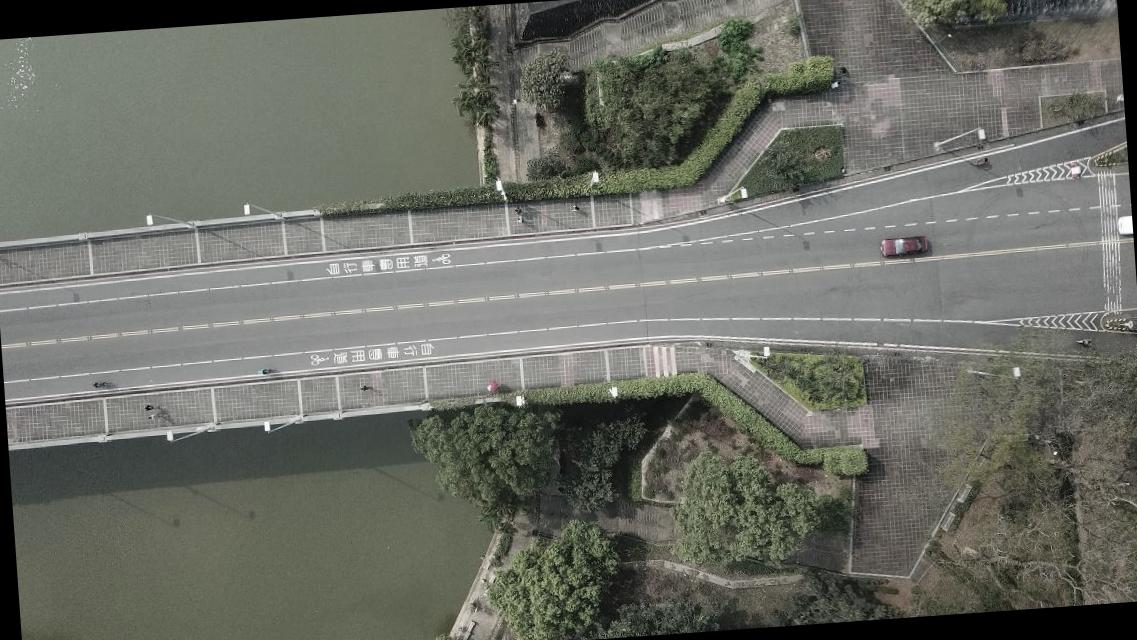vehicle: (879, 235, 927, 258), (1118, 216, 1132, 236)
